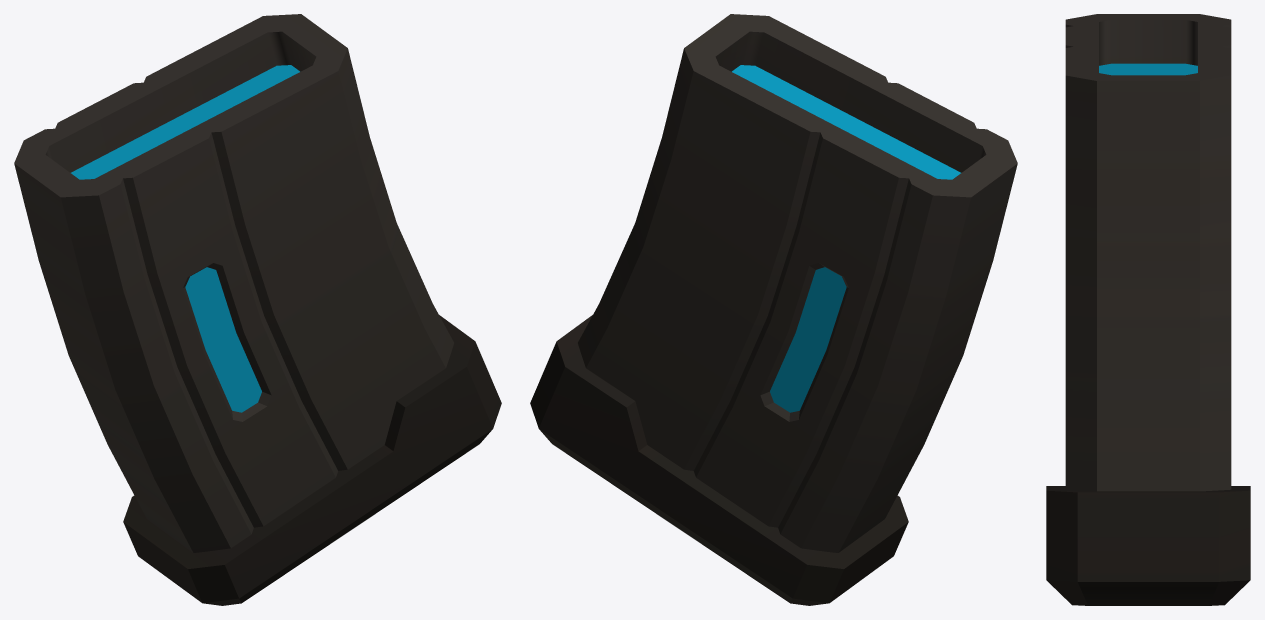
The model's file is AR2_Magazine.fbx.
3 renders of one model, left to right at view 1: azimuth 30°, elevation 25°; view 2: azimuth 150°, elevation 25°; view 3: azimuth 270°, elevation 25°, orthographic. The views are drawn at different scales.
Parts seen in each view (by area): view 1: AR2_Magazine; view 2: AR2_Magazine; view 3: AR2_Magazine.
Part boxes in pixels (x1=…): AR2_Magazine: x1=14, y1=14, x2=501, y2=605; AR2_Magazine: x1=530, y1=14, x2=1017, y2=605; AR2_Magazine: x1=1046, y1=14, x2=1250, y2=605.
Bounding box in the file's own units: 11.74 × 13.59 × 4.36.
